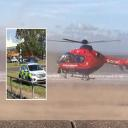helicopter: (40, 30, 115, 84)
